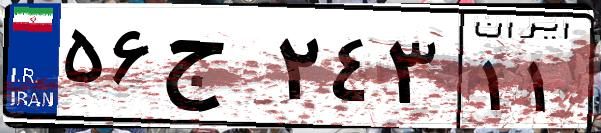1: (475, 38, 525, 113), (525, 38, 570, 115)
2: (270, 28, 330, 110)
3: (385, 28, 445, 110)
4: (330, 28, 385, 110)
5: (57, 26, 110, 100)
6: (110, 28, 158, 98)
ج: (158, 20, 270, 120)
